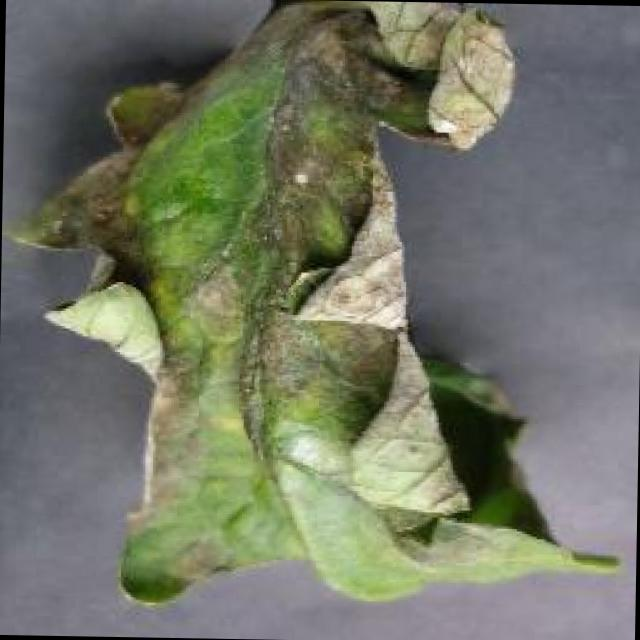Tomato_Late_Blight: (4, 0, 627, 601)
